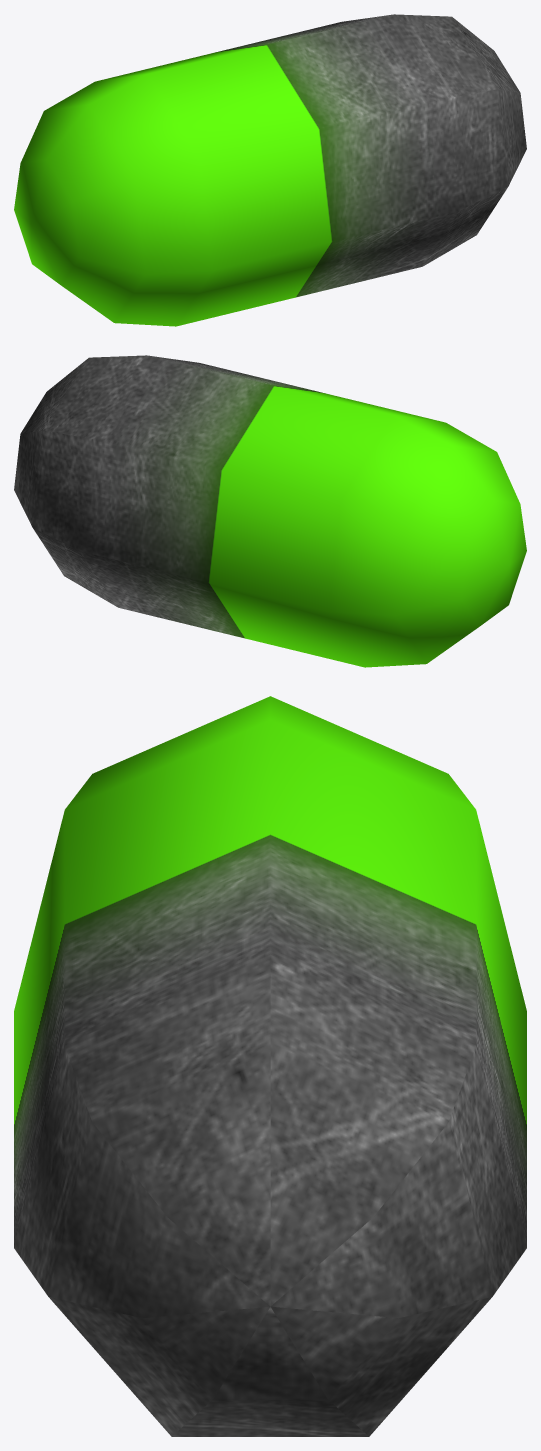
Rendered from pill.fbx.
3 renders of one model, top to bottom at view 1: azimuth 30°, elevation 25°; view 2: azimuth 150°, elevation 25°; view 3: azimuth 270°, elevation 25°, orthographic. The views are drawn at different scales.
Parts seen in each view (by area): view 1: Pill; view 2: Pill; view 3: Pill.
Boxes of the visible parts, x1,y1,x2,y2 form: Pill: [14, 14, 526, 326]; Pill: [14, 355, 526, 667]; Pill: [14, 696, 526, 1436].
Bounding box in the file's own units: 1193 × 564 × 551.
Materials: 1 (1 with a texture image).
